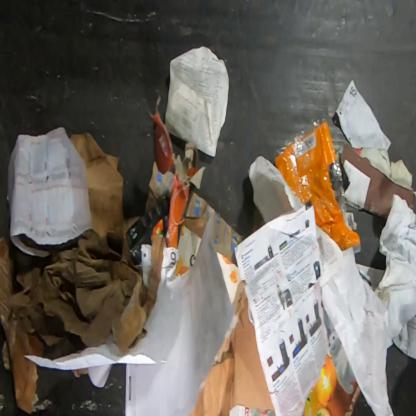cardboard: (0, 229, 165, 415), (188, 279, 275, 415), (69, 133, 143, 277), (151, 110, 206, 249), (183, 191, 244, 267), (145, 161, 174, 210)
soft_plastic: (272, 117, 361, 253)
